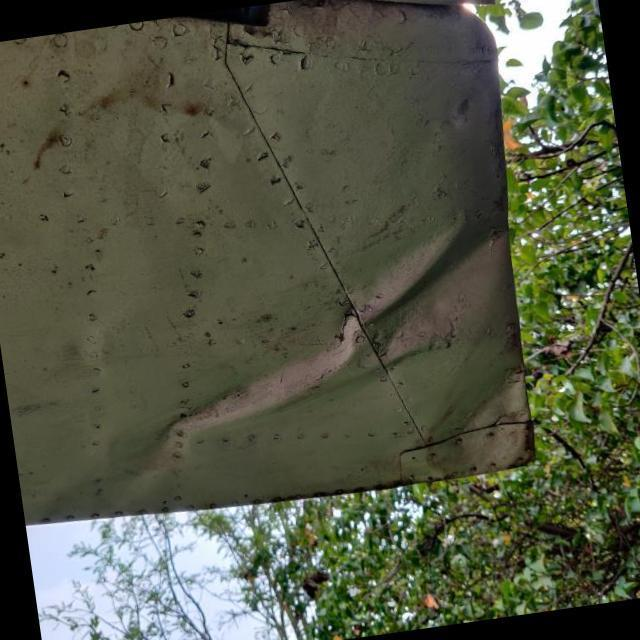Dent: (118, 180, 534, 488), (402, 350, 548, 490)
Rupture: (323, 306, 366, 353)
